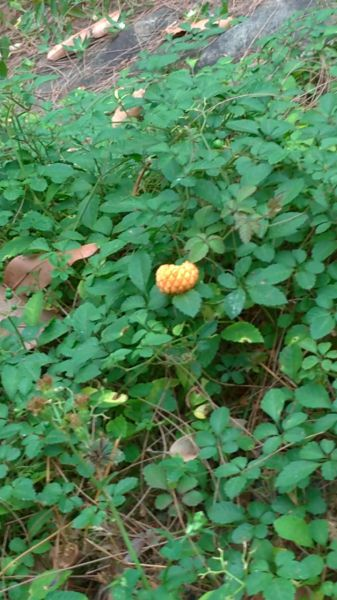eggs: (149, 256, 212, 297)
